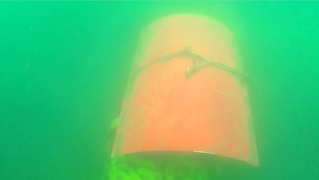leak: (110, 12, 258, 168)
pipe: (101, 152, 247, 180)
